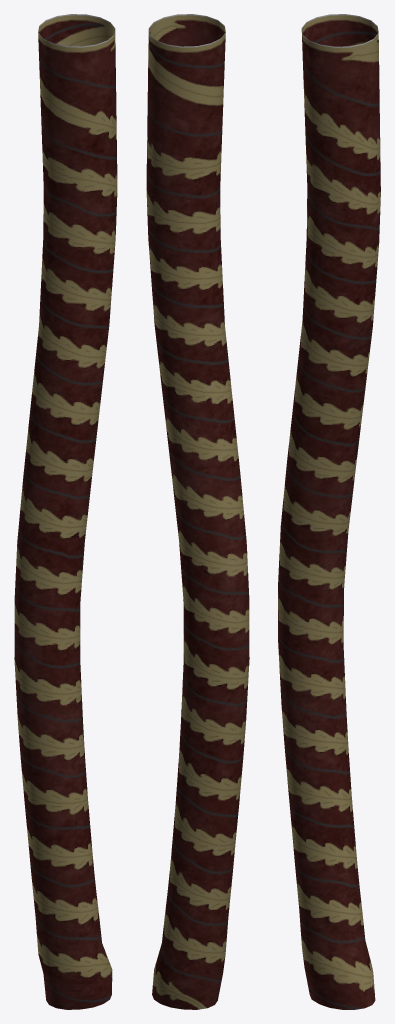
The model's file is wm_elven_sword_a_hilt.fbx.
3 views of the same model, side by side, from view 1: azimuth 30°, elevation 25°; view 2: azimuth 150°, elevation 25°; view 3: azimuth 330°, elevation 25° (orthographic).
Visible parts, largest first — view 1: wm_elven_sword_a_hilt; view 2: wm_elven_sword_a_hilt; view 3: wm_elven_sword_a_hilt.
Part boxes in pixels (left/top/right/bottom): wm_elven_sword_a_hilt: left=14, top=14, right=117, bottom=1009; wm_elven_sword_a_hilt: left=146, top=14, right=249, bottom=1009; wm_elven_sword_a_hilt: left=278, top=14, right=380, bottom=1009.
Bounding box in the file's own units: 0.0577 × 0.0414 × 0.5673.
1 material, 1 textured.
